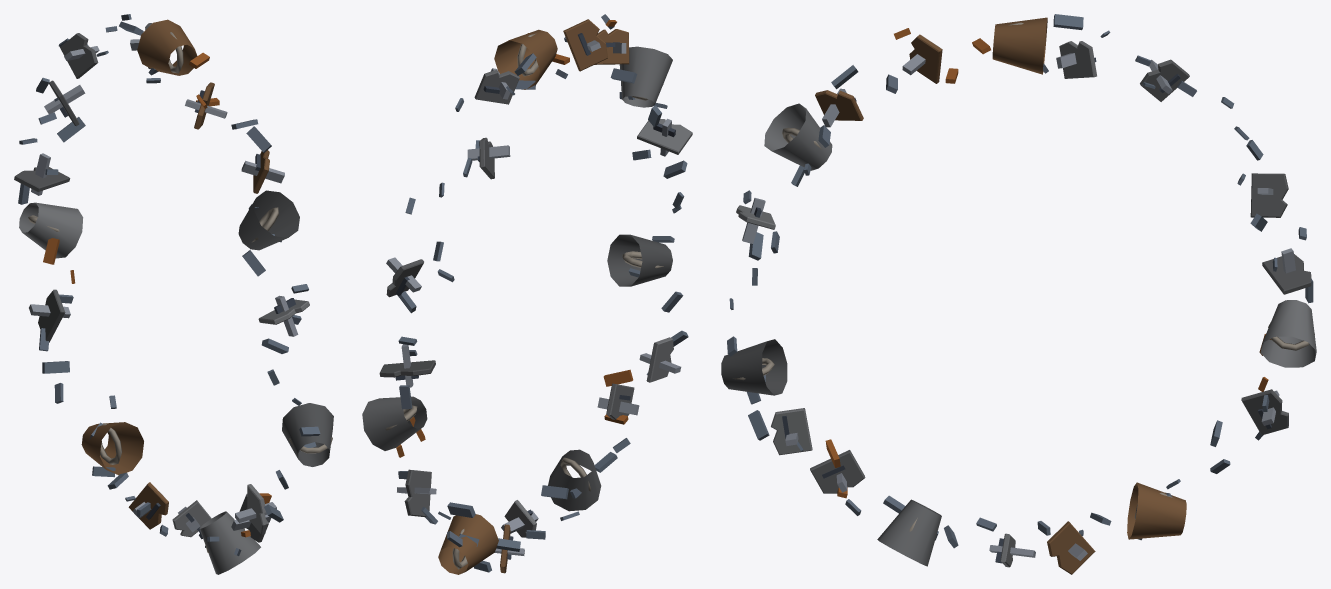
Rendered from metal-wreck-v1.glb.
3 renders of one model, left to right at view 1: azimuth 30°, elevation 25°; view 2: azimuth 150°, elevation 25°; view 3: azimuth 270°, elevation 25°, orthographic. The views are drawn at different scales.
Size of the model in its own units: 0.3292 by 1.89 by 1.85.
